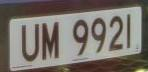1: (123, 10, 135, 52)
2: (107, 13, 125, 52)
9: (70, 15, 92, 60), (89, 14, 109, 56)
M: (40, 18, 61, 65)
U: (19, 19, 41, 67)
